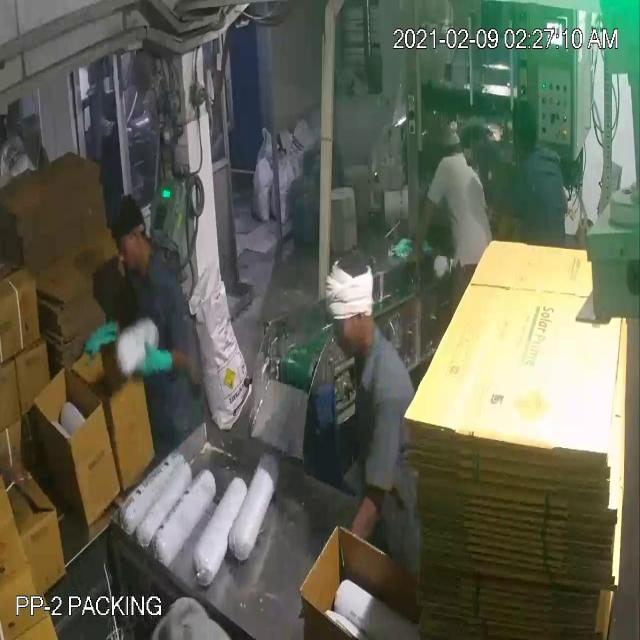gloves: (131, 339, 178, 390), (80, 314, 123, 366)
no-gloves: (407, 183, 438, 288)
